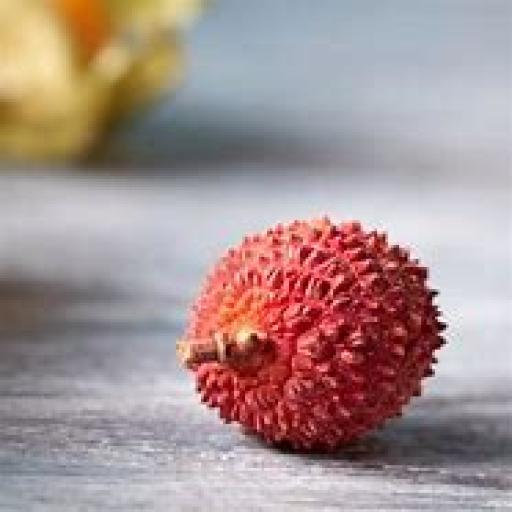lychee: (179, 221, 443, 448)
